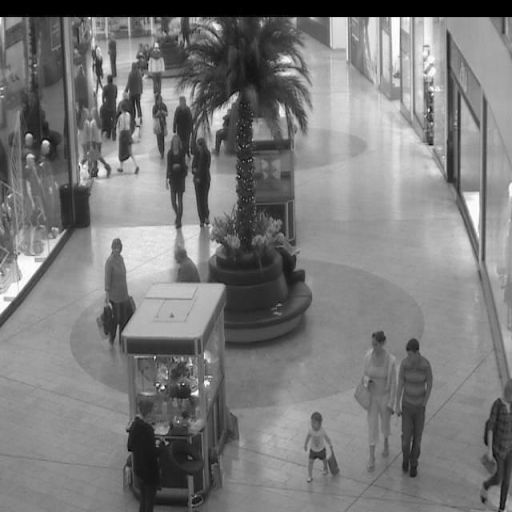person: (363, 332, 396, 473), (399, 338, 433, 473), (481, 378, 512, 512), (126, 400, 163, 512), (106, 239, 133, 348), (305, 411, 336, 480), (166, 135, 189, 226), (115, 100, 141, 174), (192, 138, 213, 225), (90, 106, 112, 176), (125, 63, 145, 125), (173, 95, 193, 156), (151, 93, 167, 158), (150, 41, 166, 102), (173, 248, 200, 282), (102, 74, 116, 136), (92, 44, 105, 93), (107, 36, 117, 73)
